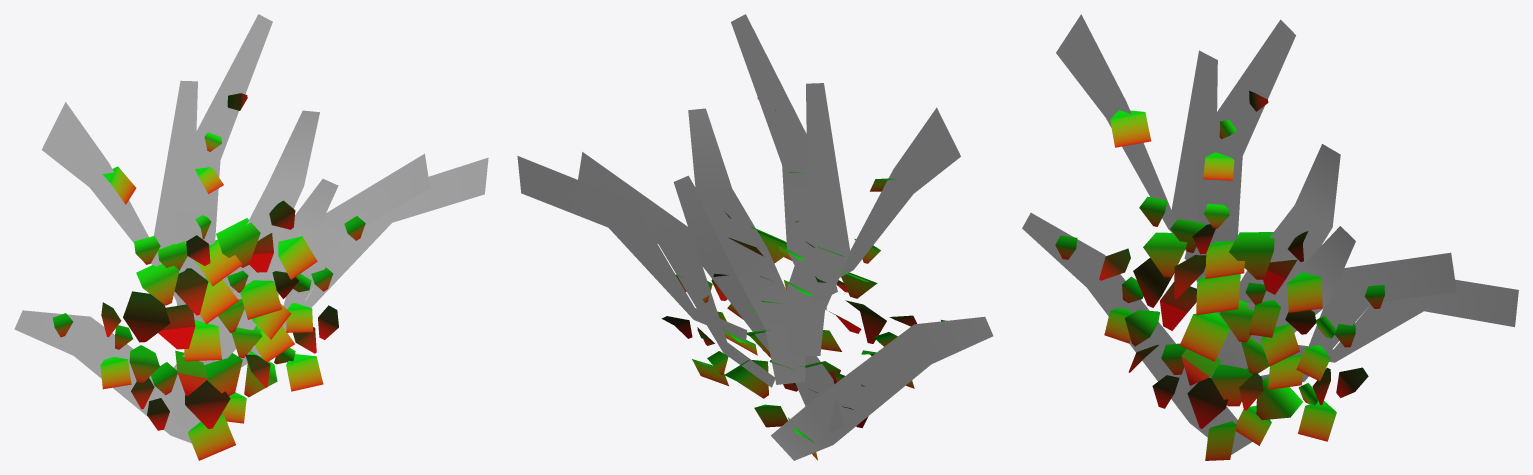
Rendered from Var6_LOD2.fbx.
3 views of the same model, side by side, from view 1: azimuth 30°, elevation 25°; view 2: azimuth 150°, elevation 25°; view 3: azimuth 330°, elevation 25° (orthographic). The views are drawn at different scales.
Parts seen in each view (by area): view 1: _b012_Var6_LOD2; view 2: _b012_Var6_LOD2; view 3: _b012_Var6_LOD2.
Boxes of the visible parts, <box> form: _b012_Var6_LOD2: <box>14,14,488,460</box>; _b012_Var6_LOD2: <box>517,14,993,460</box>; _b012_Var6_LOD2: <box>1022,14,1518,460</box>.
Bounding box in the file's own units: 63.91 × 55.38 × 6.47.
